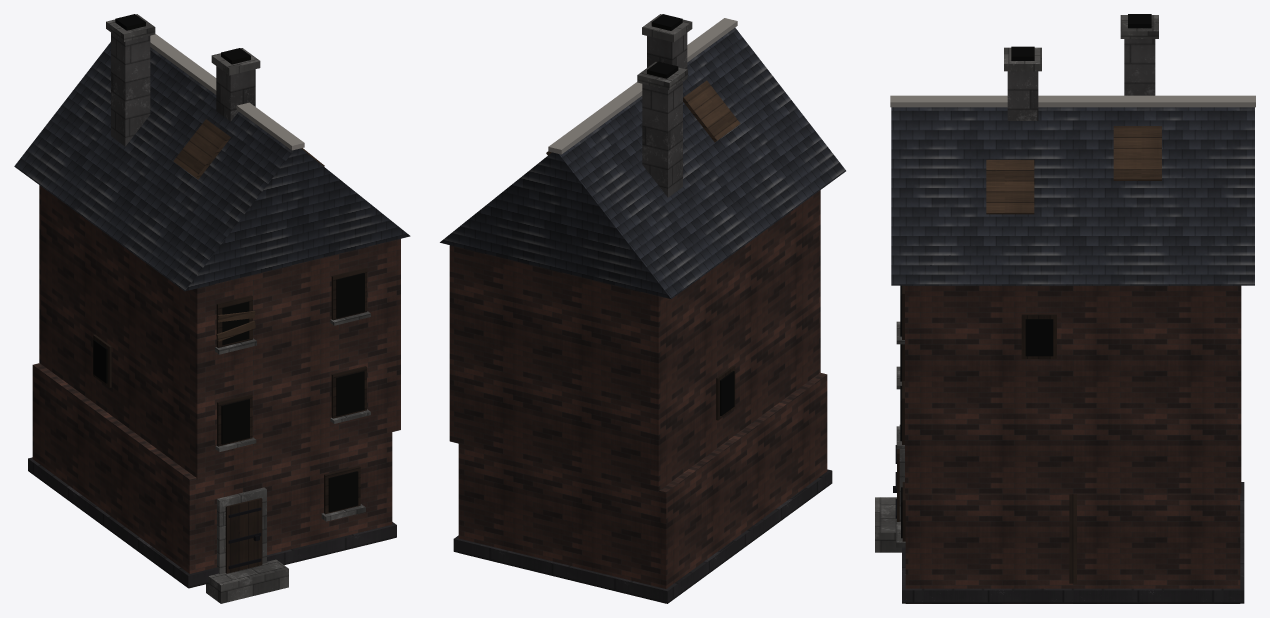
File: CasaS23.gltf
3 renders of one model, left to right at view 1: azimuth 30°, elevation 25°; view 2: azimuth 150°, elevation 25°; view 3: azimuth 270°, elevation 25°, orthographic. The views are drawn at different scales.
Parts seen in each view (by area): view 1: CasaS23; view 2: CasaS23; view 3: CasaS23.
Part boxes in pixels (left/top/right/bottom): CasaS23: left=14, top=14, right=410, bottom=603; CasaS23: left=440, top=14, right=845, bottom=603; CasaS23: left=875, top=14, right=1255, bottom=603.
Size of the model in its own units: 6.86 by 13.31 by 8.9.
10 materials, 7 textured.
